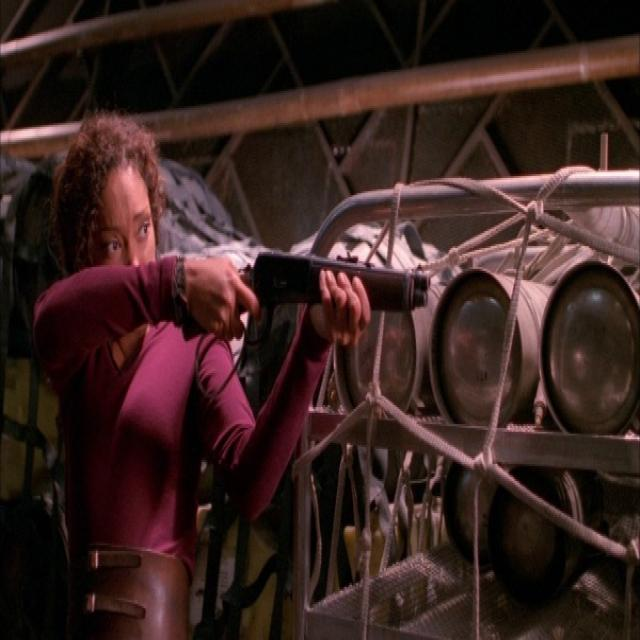rifle: (238, 244, 446, 319)
